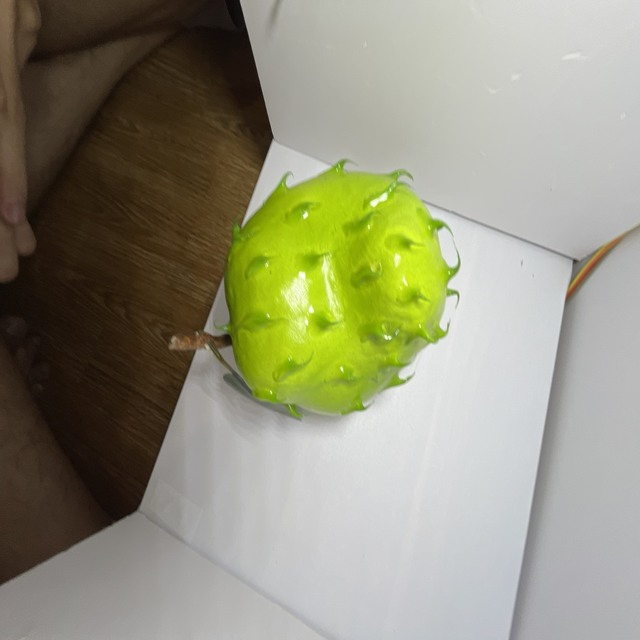Man cau: (214, 148, 476, 434)
